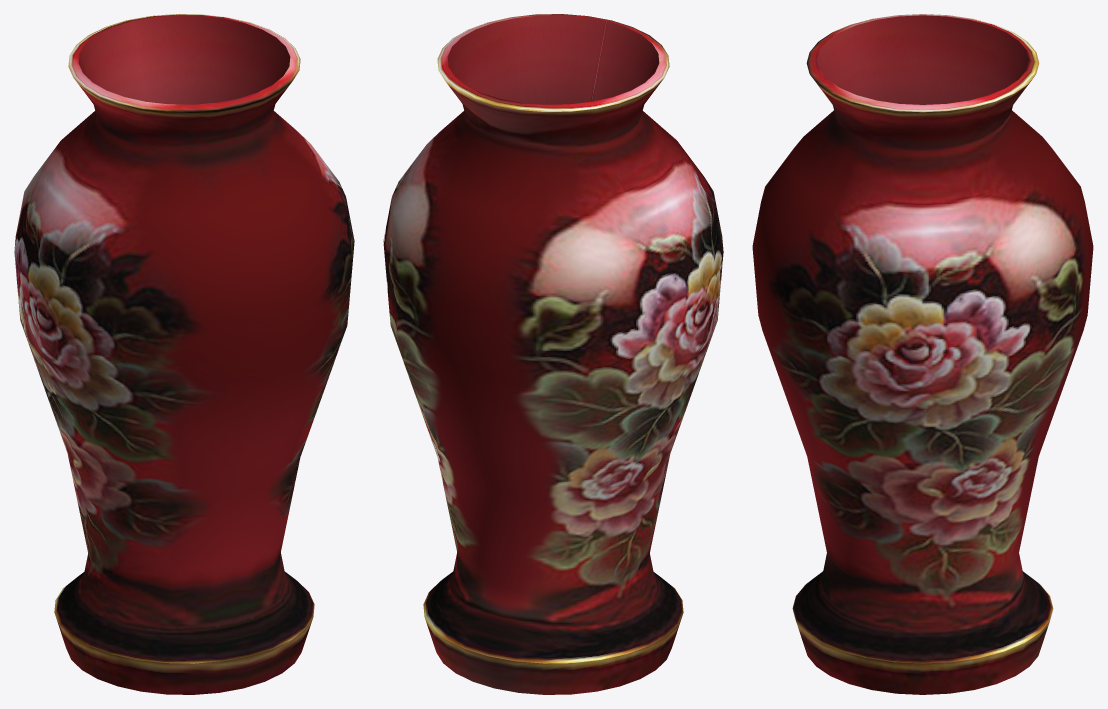
The model's file is vase.FBX.
The picture shows the model from 3 angles, left to right: view 1: azimuth 30°, elevation 25°; view 2: azimuth 150°, elevation 25°; view 3: azimuth 270°, elevation 25°; orthographic projection.
Parts seen in each view (by area): view 1: vase-1; view 2: vase-1; view 3: vase-1.
Boxes of the visible parts, x1,y1,x2,y2 form: vase-1: (14,14,354,694); vase-1: (383,14,723,694); vase-1: (752,14,1093,694).
Size of the model in its own units: 54.24 by 54.24 by 103.
Materials: 1 (1 with a texture image).
